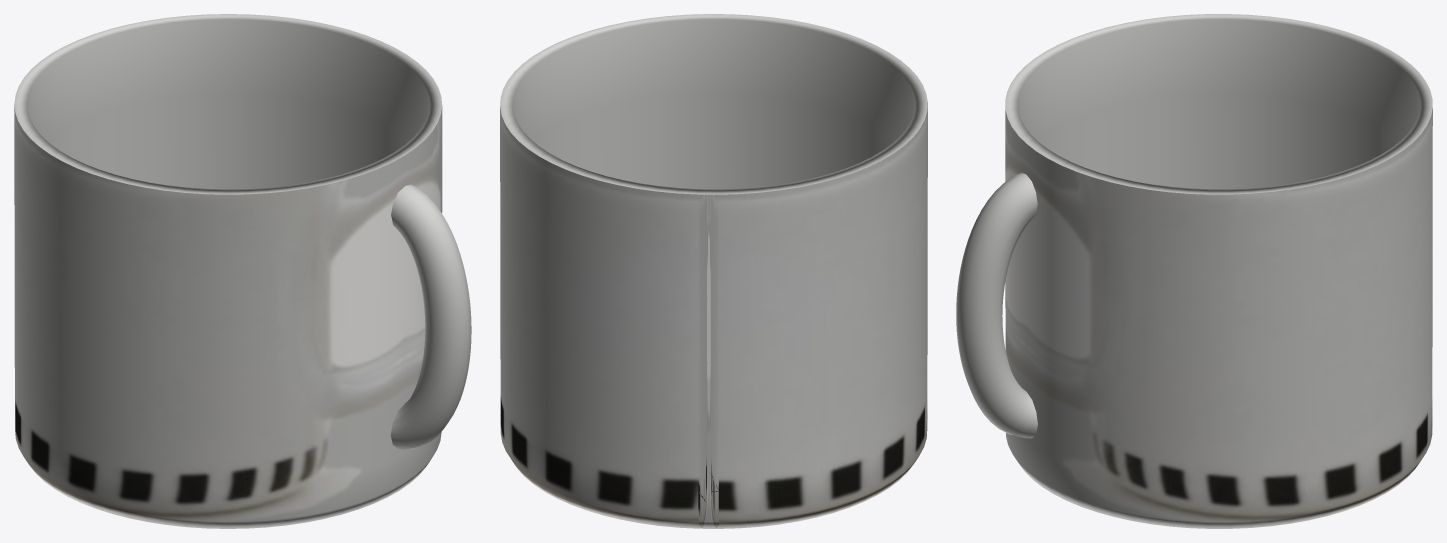
File: CER-16.glb
3 views of the same model, side by side, from view 1: azimuth 30°, elevation 25°; view 2: azimuth 150°, elevation 25°; view 3: azimuth 270°, elevation 25° (orthographic).
Bounding box in the file's own units: 0.1149 × 0.1 × 0.1281.
Materials: 3 (1 with a texture image).
